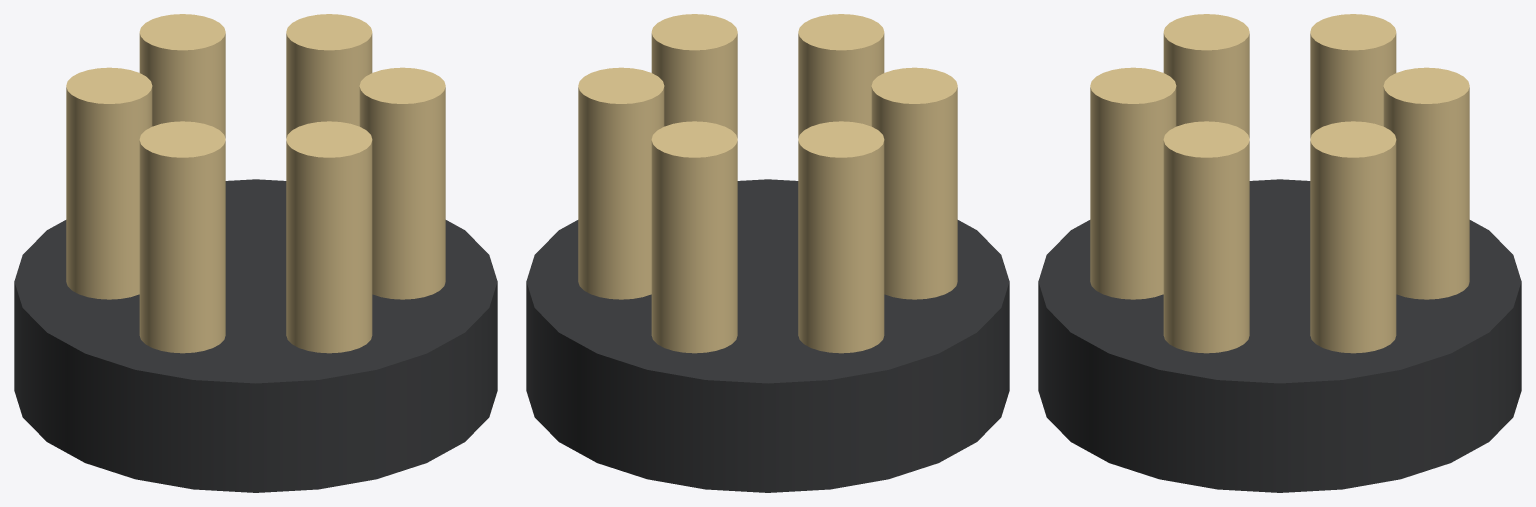
The model's file is fps-weapon-set-and-firing-range-revolver-speedloader-373e96db__19463.glb.
3 renders of one model, left to right at view 1: azimuth 30°, elevation 25°; view 2: azimuth 150°, elevation 25°; view 3: azimuth 270°, elevation 25°, orthographic.
Visible parts, largest first — view 1: revolver-speedloader; view 2: revolver-speedloader; view 3: revolver-speedloader.
Part boxes in pixels (left/top/right/bottom): revolver-speedloader: left=14, top=14, right=497, bottom=492; revolver-speedloader: left=526, top=14, right=1009, bottom=492; revolver-speedloader: left=1038, top=14, right=1521, bottom=492.
Size of the model in its own units: 0.056 by 0.039 by 0.056.
